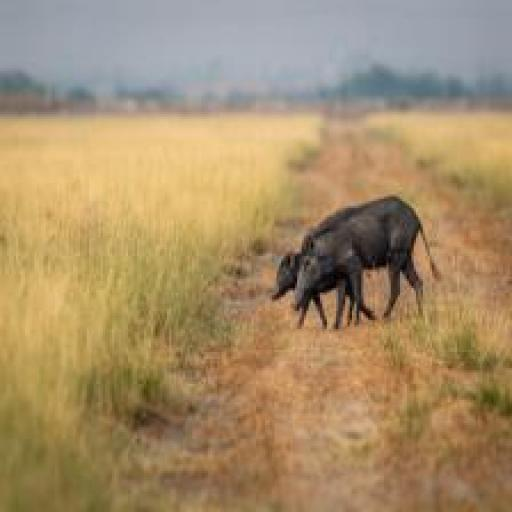Pig: (288, 190, 446, 332)
